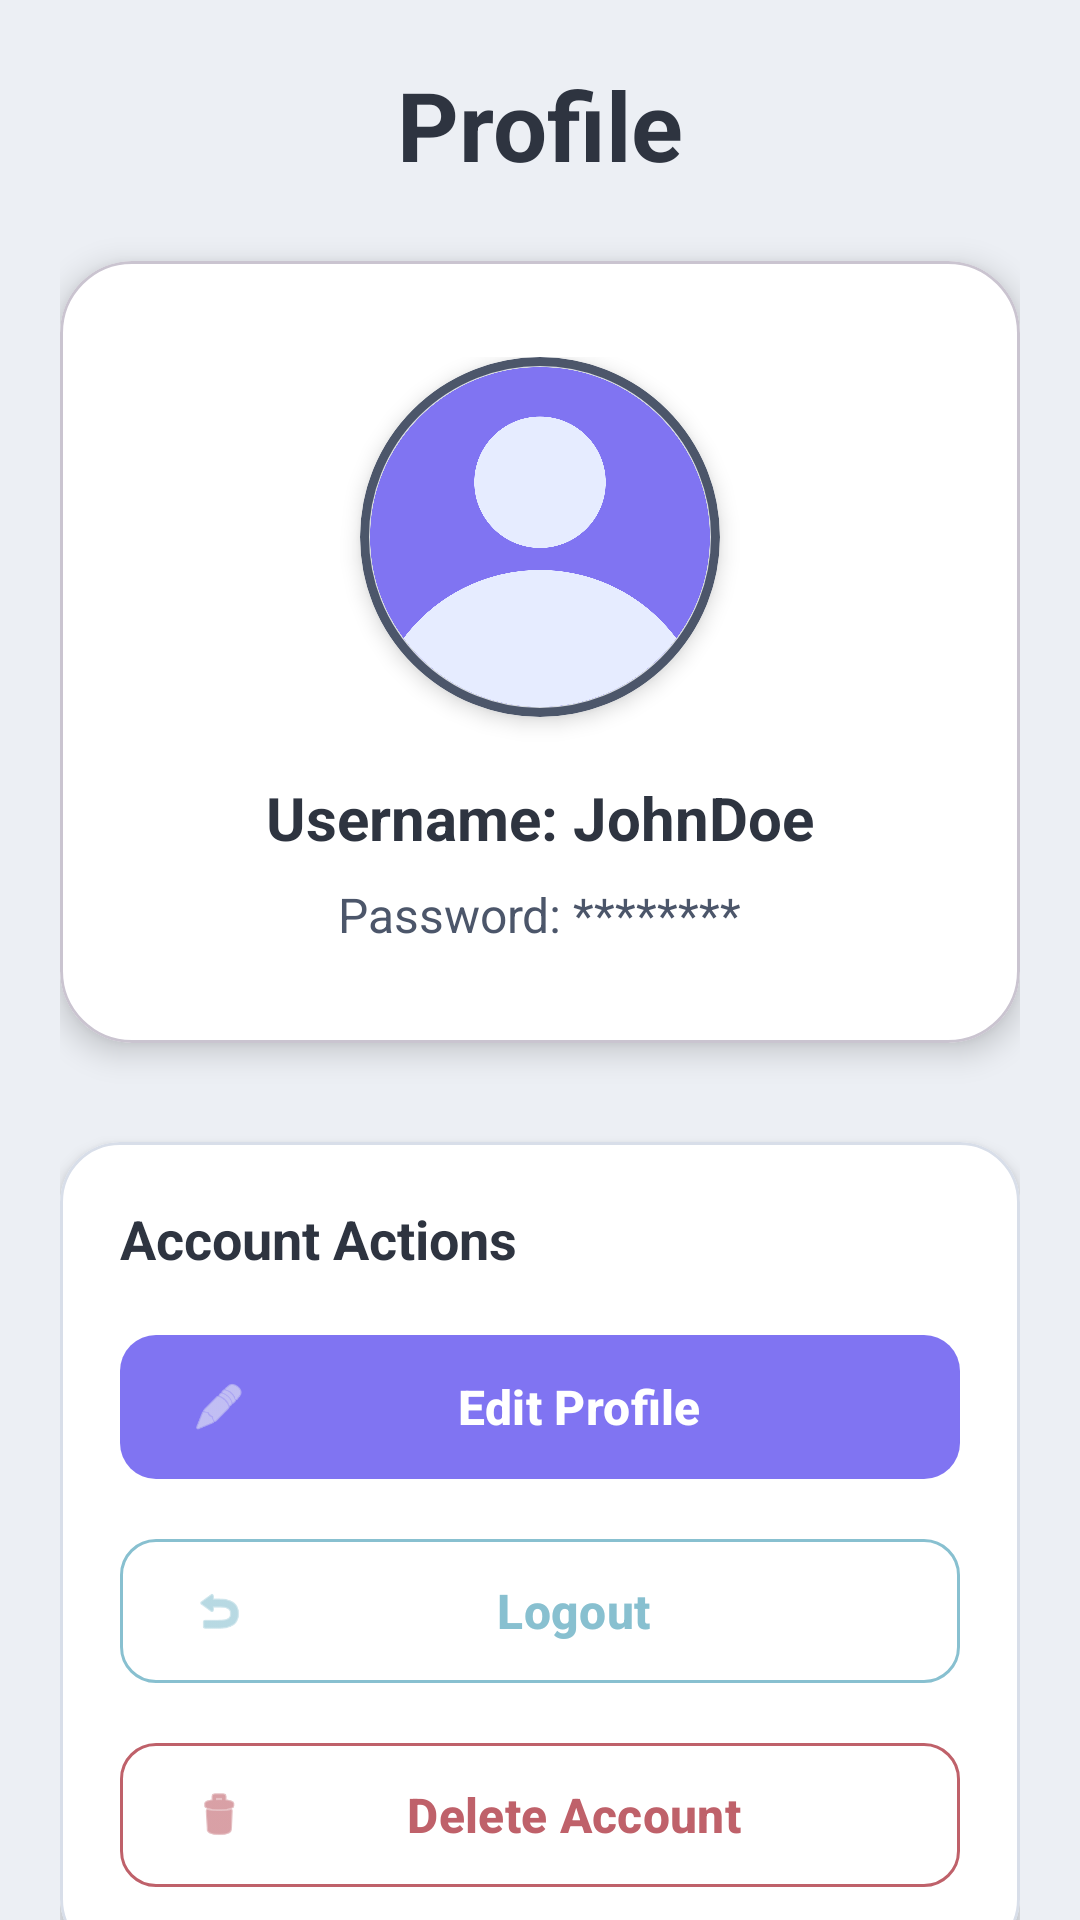

Screen size 1080 × 1920. Icon name, then its box in pixels as (x1, y1, x2, y2):
Profile Picture: (360, 357, 720, 717)
